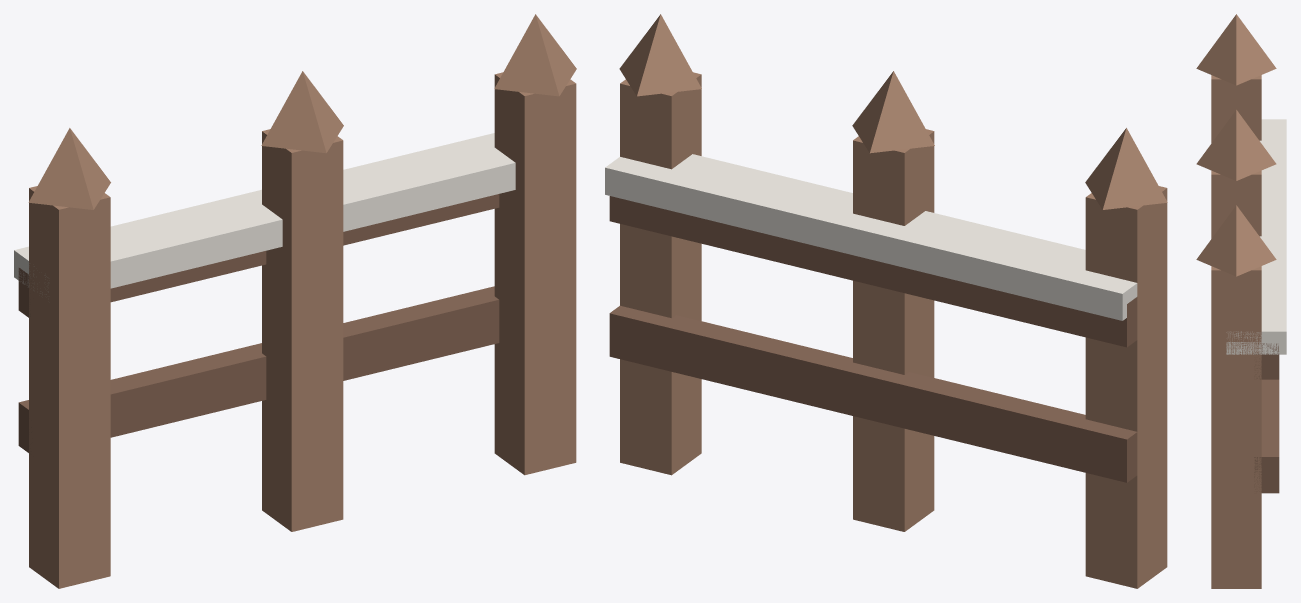
File: sb_fence.glb
The picture shows the model from 3 angles, left to right: view 1: azimuth 30°, elevation 25°; view 2: azimuth 150°, elevation 25°; view 3: azimuth 270°, elevation 25°; orthographic projection. The views are drawn at different scales.
Parts seen in each view (by area): view 1: fence; view 2: fence; view 3: fence.
Boxes of the visible parts, x1,y1,x2,y2 form: fence: (14, 14, 576, 588); fence: (605, 14, 1167, 588); fence: (1196, 14, 1286, 588).
Size of the model in its own units: 1.06 by 0.82 by 0.18.
